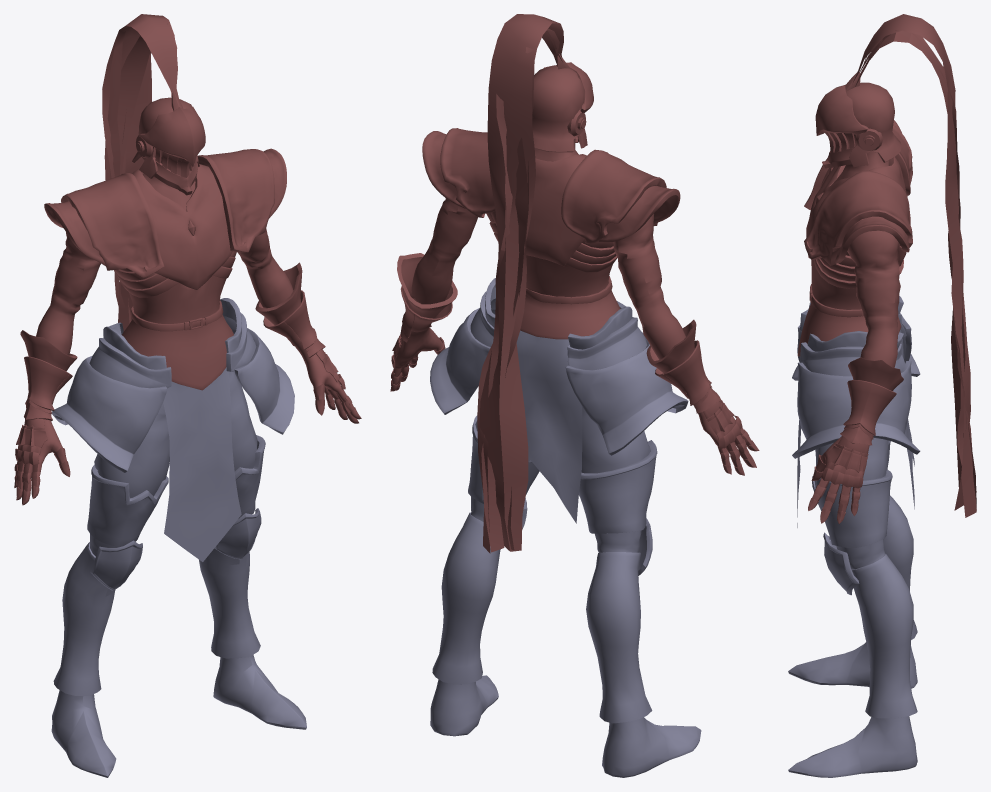
The model's file is Knight Monster Modeling Low 2.fbx.
The picture shows the model from 3 angles, left to right: view 1: azimuth 30°, elevation 25°; view 2: azimuth 150°, elevation 25°; view 3: azimuth 270°, elevation 25°; orthographic projection. The views are drawn at different scales.
Visible parts, largest first — view 1: Object002; view 2: Object002; view 3: Object002.
Part boxes in pixels (<box>): Object002: <box>14,14,361,777</box>; Object002: <box>390,14,759,777</box>; Object002: <box>788,14,976,777</box>.
Bounding box in the file's own units: 7.13 × 14.05 × 3.4.
